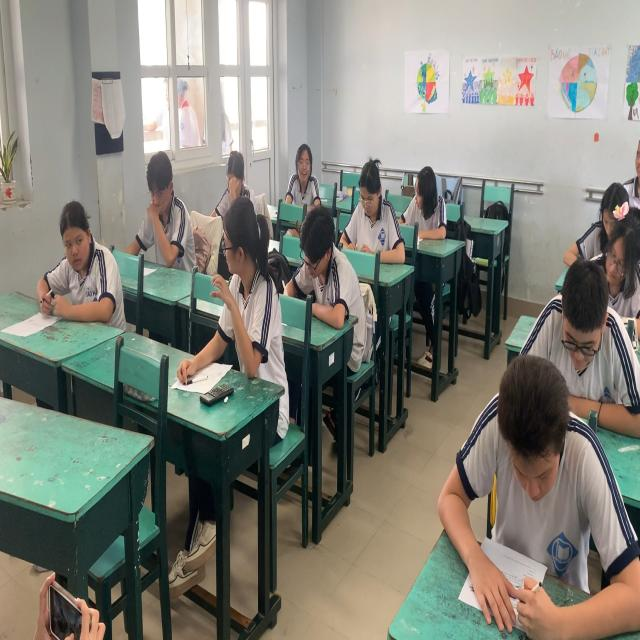cheating: (205, 203, 274, 407), (40, 199, 114, 327), (402, 151, 451, 248)
not_cheating: (459, 382, 629, 631), (519, 259, 608, 390), (342, 154, 404, 265), (130, 151, 188, 269), (580, 179, 638, 282), (291, 206, 352, 300), (280, 134, 326, 213), (216, 151, 250, 207)
